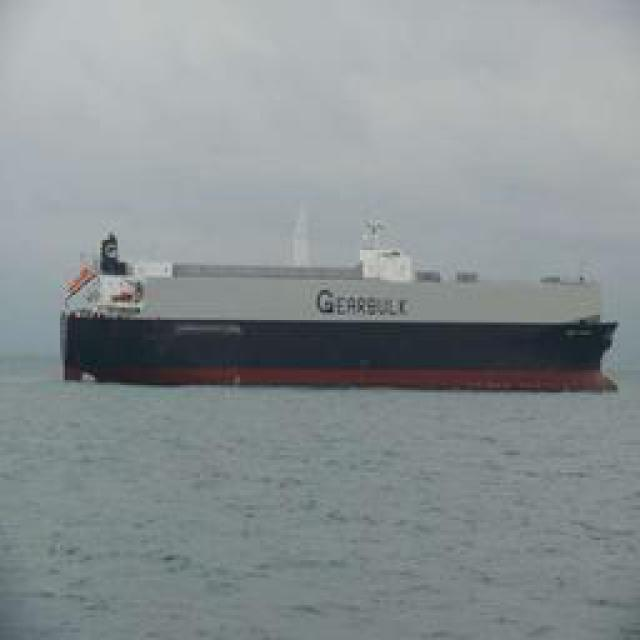Ship: (51, 226, 624, 391)
